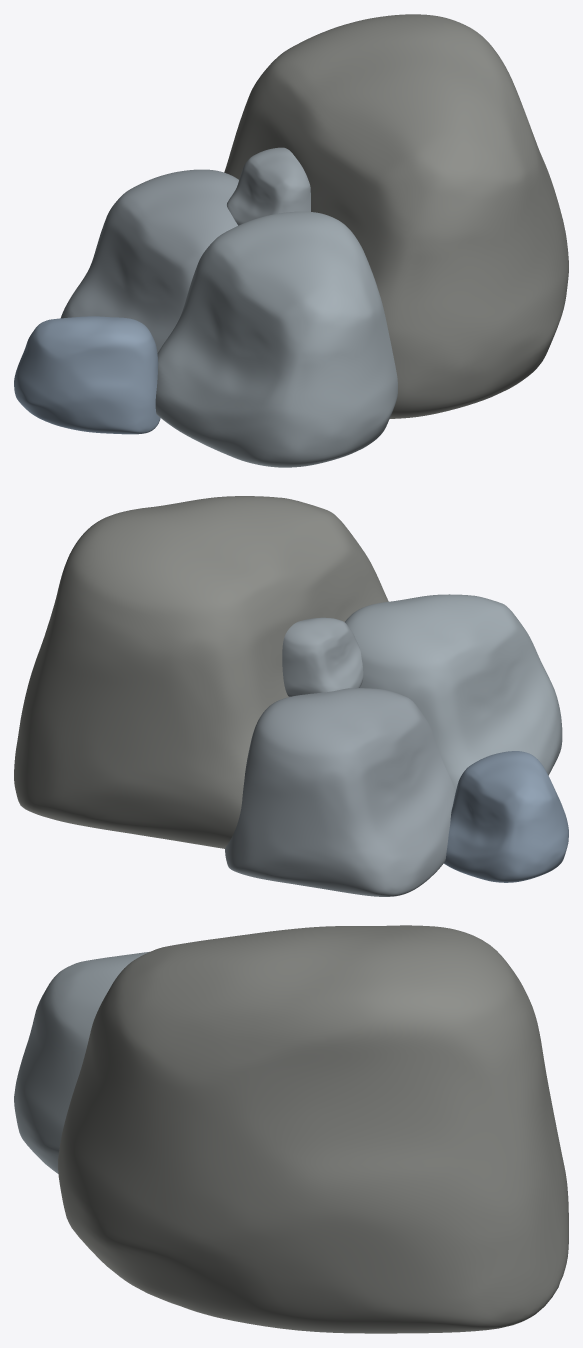
File: Bato.fbx
3 views of the same model, one above another, from view 1: azimuth 30°, elevation 25°; view 2: azimuth 150°, elevation 25°; view 3: azimuth 270°, elevation 25° (orthographic). The views are drawn at different scales.
Parts seen in each view (by area): view 1: stone, stone.003, stone.001, stone.004, stone.002; view 2: stone, stone.001, stone.003, stone.004, stone.002; view 3: stone, stone.003.
Boxes of the visible parts, x1,y1,x2,y2 form: stone: [224, 14, 568, 418]; stone.003: [155, 211, 397, 467]; stone.001: [61, 169, 238, 353]; stone.004: [14, 316, 160, 434]; stone.002: [227, 147, 310, 225]; stone: [14, 496, 388, 848]; stone.001: [225, 688, 455, 896]; stone.003: [345, 594, 562, 790]; stone.004: [444, 751, 568, 882]; stone.002: [282, 617, 363, 696]; stone: [58, 925, 568, 1333]; stone.003: [14, 951, 149, 1173].
Bounding box in the file's own units: 224 × 121 × 175.
